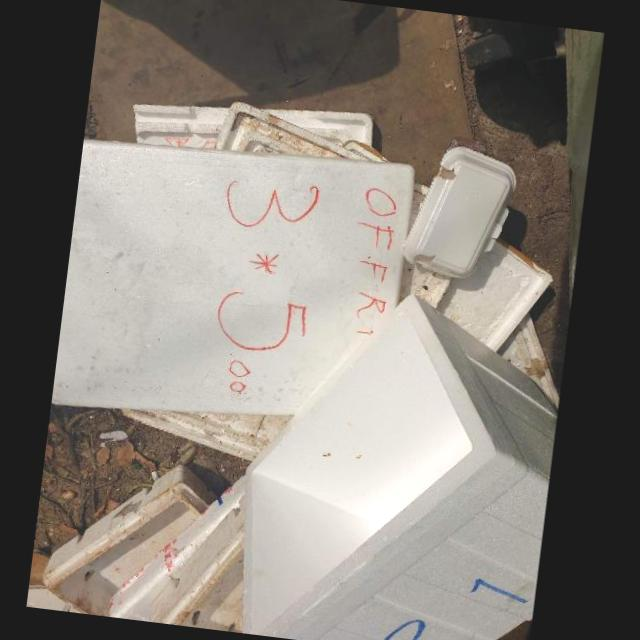xop: (240, 292, 557, 640), (51, 137, 415, 414), (42, 463, 217, 616), (107, 475, 244, 621), (132, 101, 389, 162), (402, 145, 516, 278), (149, 496, 245, 633)
